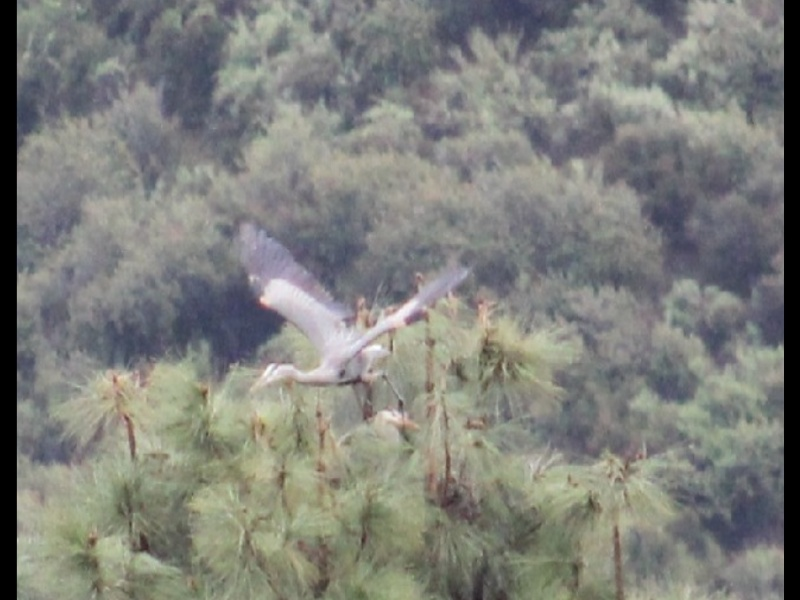heron: (233, 220, 472, 425)
